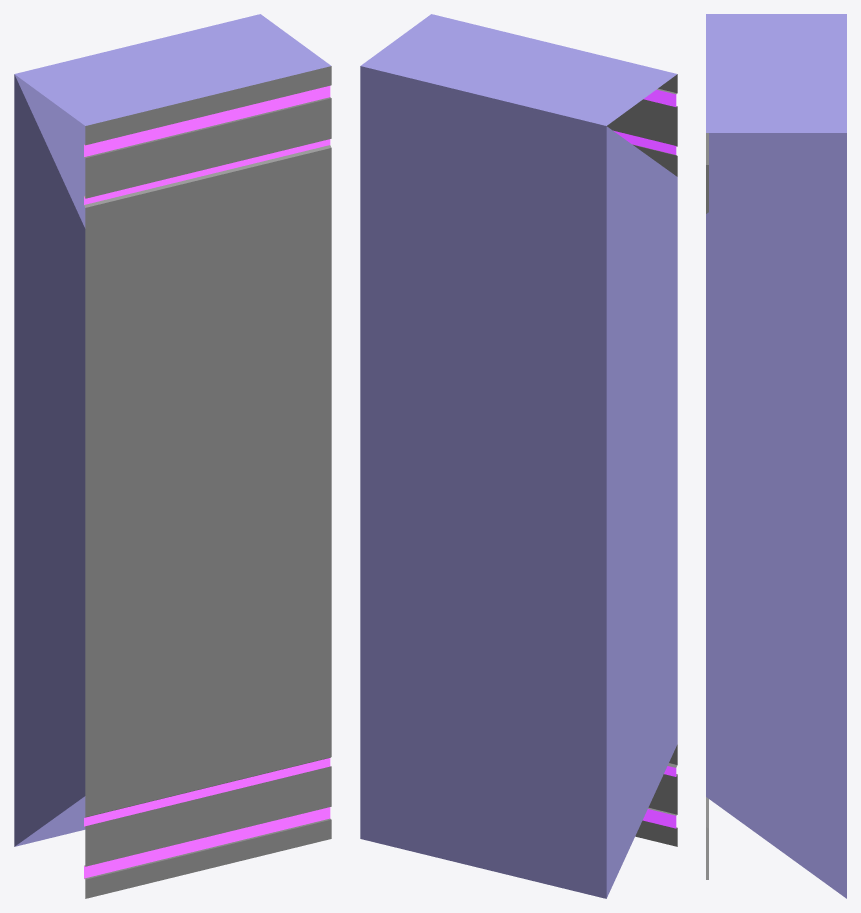
File: WallFlat.FBX
The picture shows the model from 3 angles, left to right: view 1: azimuth 30°, elevation 25°; view 2: azimuth 150°, elevation 25°; view 3: azimuth 270°, elevation 25°; orthographic projection.
Parts seen in each view (by area): view 1: WallFlat; view 2: WallFlat; view 3: WallFlat.
Part boxes in pixels (<box>): WallFlat: <box>14,14,331,898</box>; WallFlat: <box>360,14,677,898</box>; WallFlat: <box>706,14,846,898</box>.
Bounding box in the file's own units: 100 × 50 × 300.
